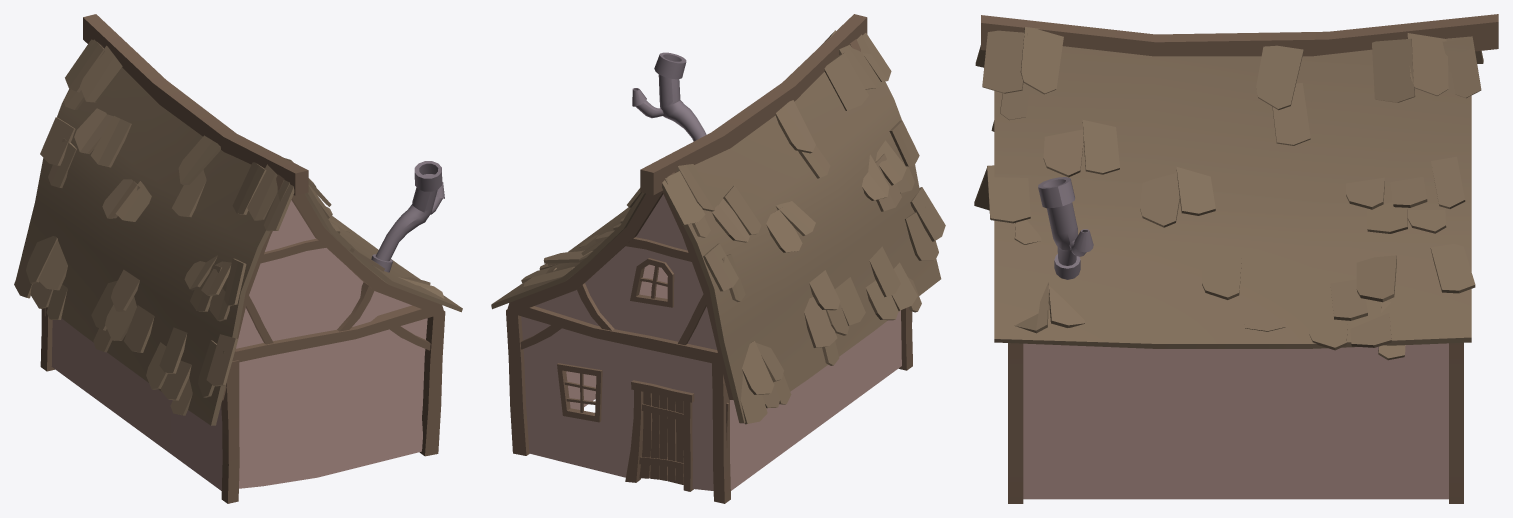
The model's file is MobyInsideTown_House1.fbx.
3 views of the same model, side by side, from view 1: azimuth 30°, elevation 25°; view 2: azimuth 150°, elevation 25°; view 3: azimuth 270°, elevation 25° (orthographic). The views are drawn at different scales.
Visible parts, largest first — view 1: Cube.002; view 2: Cube.002; view 3: Cube.002.
Part boxes in pixels (box(x1,y1,x2,y2)): Cube.002: box(14, 14, 462, 503); Cube.002: box(491, 14, 945, 503); Cube.002: box(974, 14, 1498, 503).
Bounding box in the file's own units: 493 × 559 × 664.
